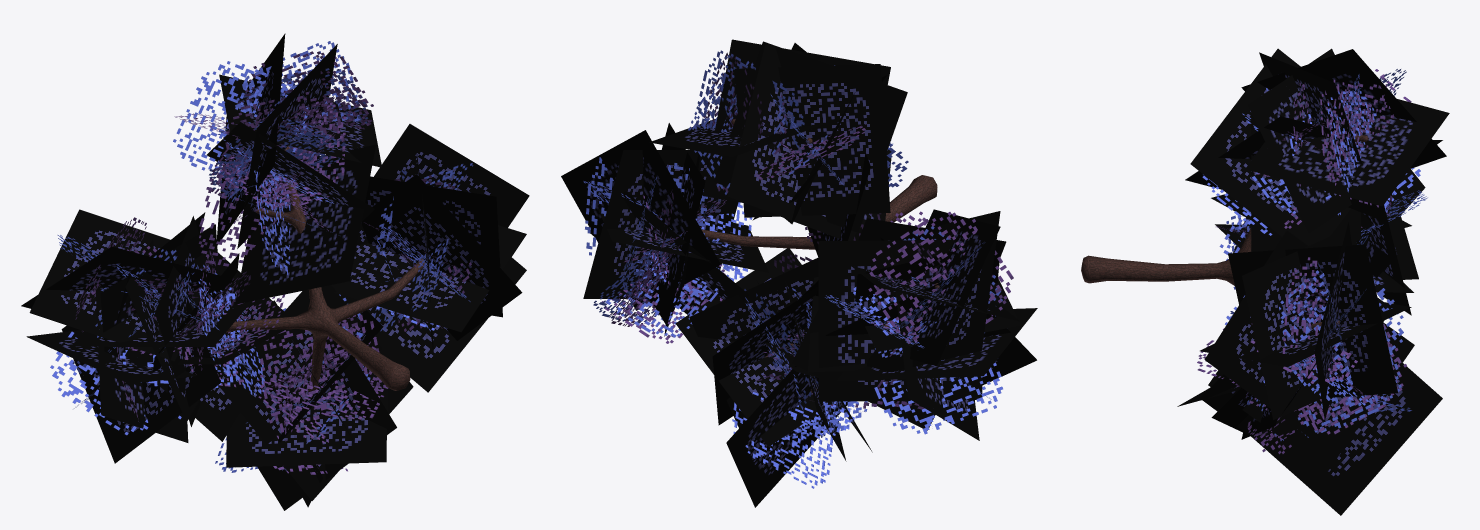
File: Tree5Phase2.fbx
The picture shows the model from 3 angles, left to right: view 1: azimuth 30°, elevation 25°; view 2: azimuth 150°, elevation 25°; view 3: azimuth 270°, elevation 25°; orthographic projection. The views are drawn at different scales.
Visible parts, largest first — view 1: Tree5PhaseP2; view 2: Tree5PhaseP2; view 3: Tree5PhaseP2.
Part boxes in pixels (x1,y1,x2,y2): Tree5PhaseP2: [21, 33, 529, 510]; Tree5PhaseP2: [561, 39, 1037, 507]; Tree5PhaseP2: [1081, 48, 1449, 515].
Size of the model in its own units: 3250 by 3118 by 2311.
